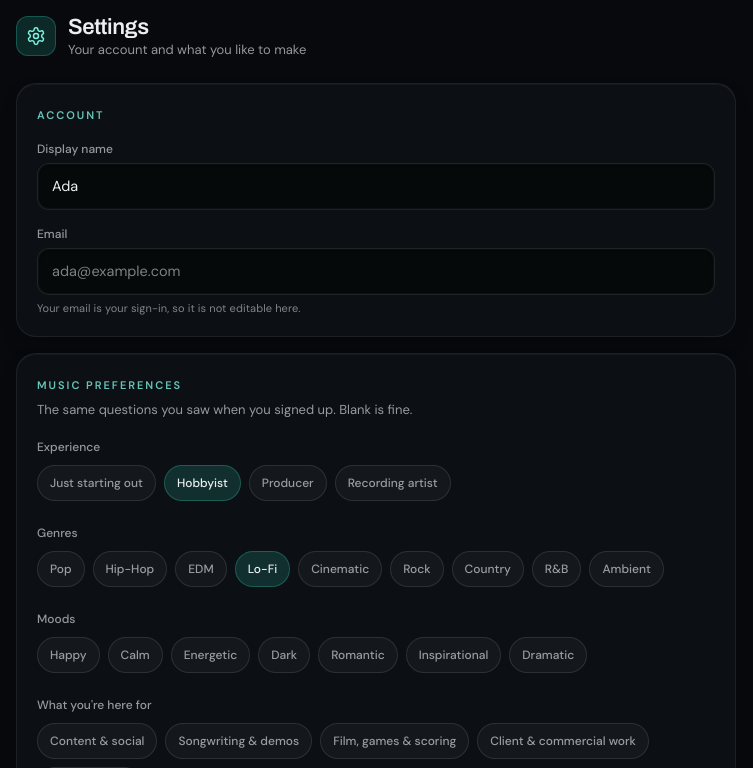
Test: Settings › hides the save bar until something actually changes
This screenshot has width=753, height=768.
Expected: the field showing "Ada" is shown, [37, 163, 715, 210]
Expected: the button "Save changes" is not shown
Click the button "Calm" at (135, 655), box [108, 637, 163, 673]
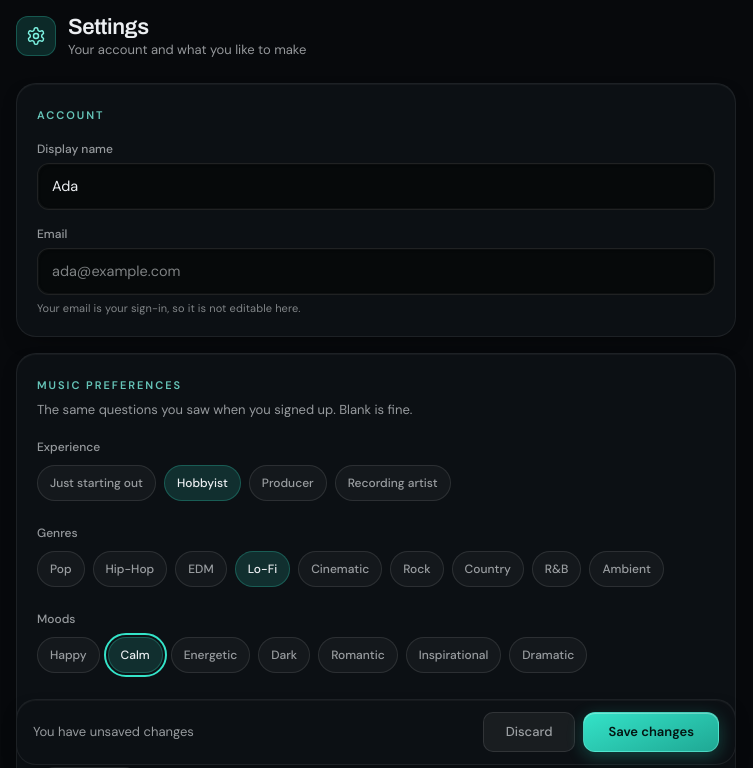
Expected: the button "Save changes" is shown, [584, 712, 719, 752]
